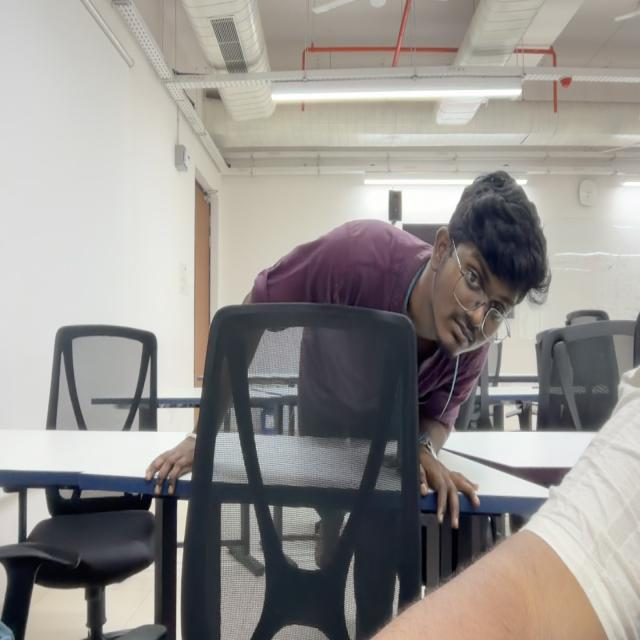ravindra: (430, 172, 548, 362)
